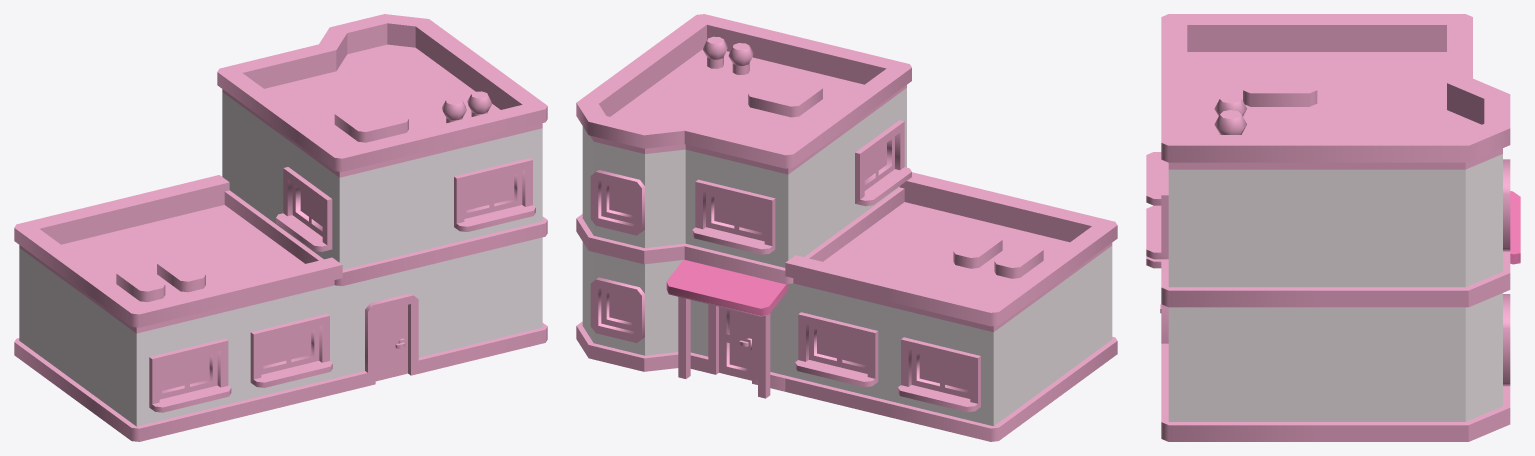
File: building_e.obj
3 views of the same model, side by side, from view 1: azimuth 30°, elevation 25°; view 2: azimuth 150°, elevation 25°; view 3: azimuth 270°, elevation 25° (orthographic). The views are drawn at different scales.
Parts seen in each view (by area): view 1: building-e; view 2: building-e; view 3: building-e.
Boxes of the visible parts, <box> form: building-e: <box>14,14,547,441</box>; building-e: <box>576,14,1117,441</box>; building-e: <box>1146,14,1520,441</box>.
Bounding box in the file's own units: 32.8 × 17.86 × 20.16.
1 material, 1 textured.
